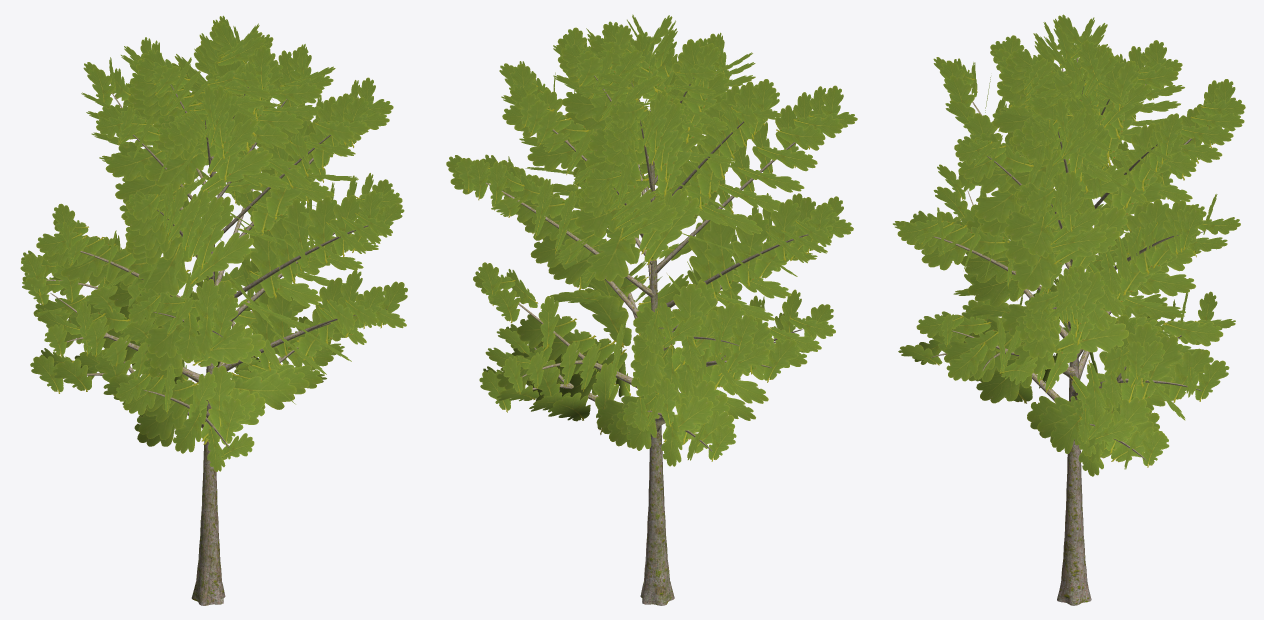
File: Tree.obj
The picture shows the model from 3 angles, left to right: view 1: azimuth 30°, elevation 25°; view 2: azimuth 150°, elevation 25°; view 3: azimuth 270°, elevation 25°; orthographic projection.
Visible parts, largest first — view 1: leaf oak, mossybark01; view 2: leaf oak, mossybark01; view 3: leaf oak, mossybark01.
Boxes of the visible parts, bbox=[...] form: leaf oak: bbox=[20, 15, 407, 471]; mossybark01: bbox=[46, 84, 386, 605]; leaf oak: bbox=[446, 14, 857, 466]; mossybark01: bbox=[486, 73, 808, 605]; leaf oak: bbox=[893, 14, 1245, 476]; mossybark01: bbox=[931, 58, 1206, 605].
Size of the model in its own units: 399 by 601 by 342.
